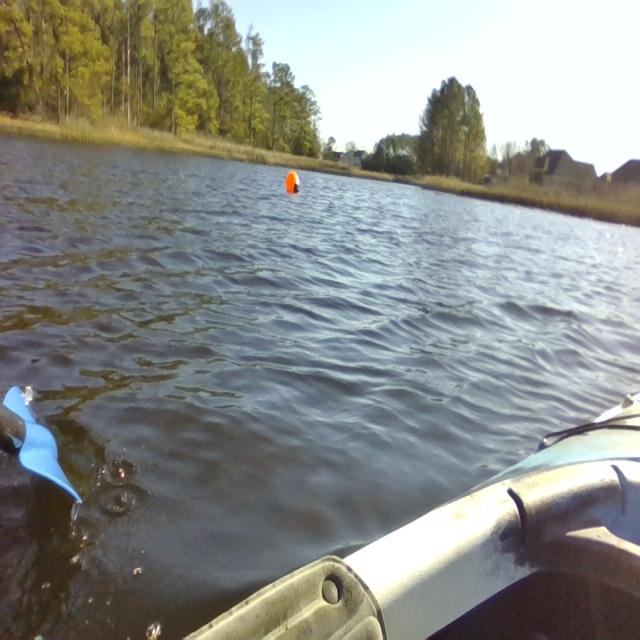Buoy: (283, 168, 304, 199)
